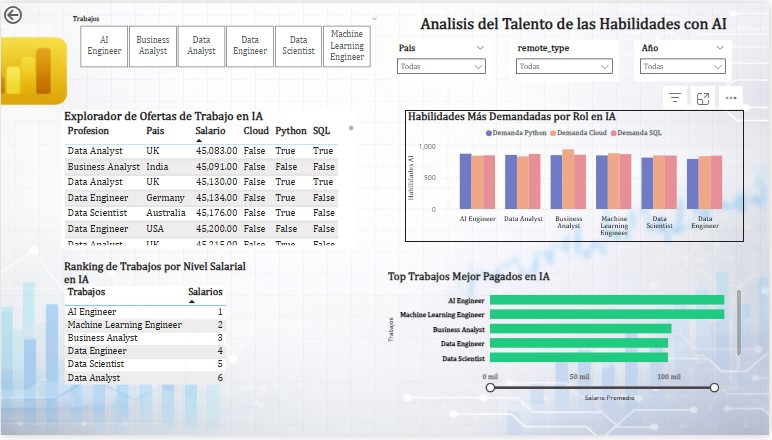

The page's visual inventory and layout, read from the dashboard file:
{"tool":"powerbi","page":{"name":"Analisis del Talento","canvas":[1280,720],"ordinal":1},"visuals":[{"type":"clusteredColumnChart","title":"Habilidades Más Demandadas por Rol en IA","fields":{"Category":["ai_jobmarket_db vw_skills_demand.job_title"],"Y":["Sum(ai_jobmarket_db vw_skills_demand.python_demand)","Sum(ai_jobmarket_db vw_skills_demand.ml_demand)","Sum(ai_jobmarket_db vw_skills_demand.sql_demand)"]},"box":[672.9,178.6,565.7,220],"z":0},{"type":"clusteredBarChart","title":"Top Trabajos Mejor Pagados en IA","fields":{"Category":["ai_jobmarket_db vw_top_roles.job_title"],"Y":["Sum(ai_jobmarket_db vw_top_roles.avg_salary)"]},"box":[640,445.7,598.6,224.3],"z":1000},{"type":"tableEx","title":"Explorador de Ofertas de Trabajo en IA","fields":{"Values":["ai_jobmarket_db vw_powerbi_master_audit.job_title","ai_jobmarket_db vw_powerbi_master_audit.country","ai_jobmarket_db vw_powerbi_master_audit.salary","ai_jobmarket_db vw_powerbi_master_audit.skills_cloud","ai_jobmarket_db vw_powerbi_master_audit.skills_python","ai_jobmarket_db vw_powerbi_master_audit.skills_sql"]},"box":[100,178.6,492.9,231.4],"z":2000},{"type":"textbox","box":[667.1,15.7,575.7,57.1],"z":3000},{"type":"slicer","fields":{"Values":["ai_jobmarket_db vw_powerbi_master_audit.job_title"]},"box":[106.9,15.3,533.3,98.6],"z":4000},{"type":"tableEx","title":"Ranking de Trabajos por Nivel Salarial en IA","fields":{"Values":["ai_jobmarket_db vw_top_roles.job_title","Sum(ai_jobmarket_db vw_top_roles.salary_rank)"]},"box":[100,428.6,330,215.7],"z":5000},{"type":"actionButton","box":[0,0,100,40],"z":5001},{"type":"slicer","fields":{"Values":["ai_jobmarket_db vw_powerbi_master_audit.country"]},"box":[650,61.1,168.1,69.4],"z":5002},{"type":"slicer","fields":{"Values":["ai_jobmarket_db vw_powerbi_master_audit.remote_type"]},"box":[848.6,61.1,180.6,69.4],"z":5003},{"type":"slicer","fields":{"Values":["ai_jobmarket_db vw_powerbi_master_audit.posting_date.Variación.Jerarquía de fechas.Año"]},"box":[1055.6,61.1,162.5,69.4],"z":5004}]}

Visuals, with their boxes on the page's 1280x720 design canvas (x1, y1, x2, y2). These are canvas units, not pixel positions in the 772x440 screenshot, which may show the page scaled, cropped or inside an application window:
"Habilidades Más Demandadas por Rol en IA" clusteredColumnChart: 673,179,1239,399
"Top Trabajos Mejor Pagados en IA" clusteredBarChart: 640,446,1239,670
"Explorador de Ofertas de Trabajo en IA" tableEx: 100,179,593,410
textbox: 667,16,1243,73
slicer - ai_jobmarket_db vw_powerbi_master_audit.job_title: 107,15,640,114
"Ranking de Trabajos por Nivel Salarial en IA" tableEx: 100,429,430,644
actionButton: 0,0,100,40
slicer - ai_jobmarket_db vw_powerbi_master_audit.country: 650,61,818,130
slicer - ai_jobmarket_db vw_powerbi_master_audit.remote_type: 849,61,1029,130
slicer - ai_jobmarket_db vw_powerbi_master_audit.posting_date.Variación.Jerarquía de fechas.Año: 1056,61,1218,130
